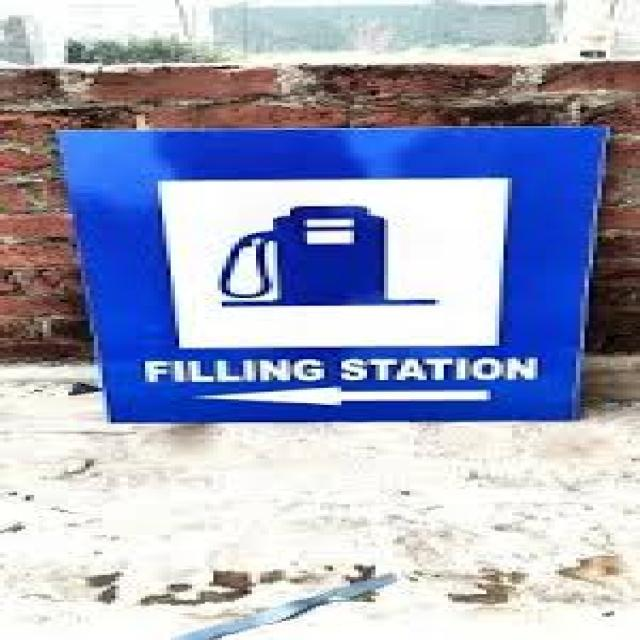petrol pump ahead: (128, 161, 569, 354)
